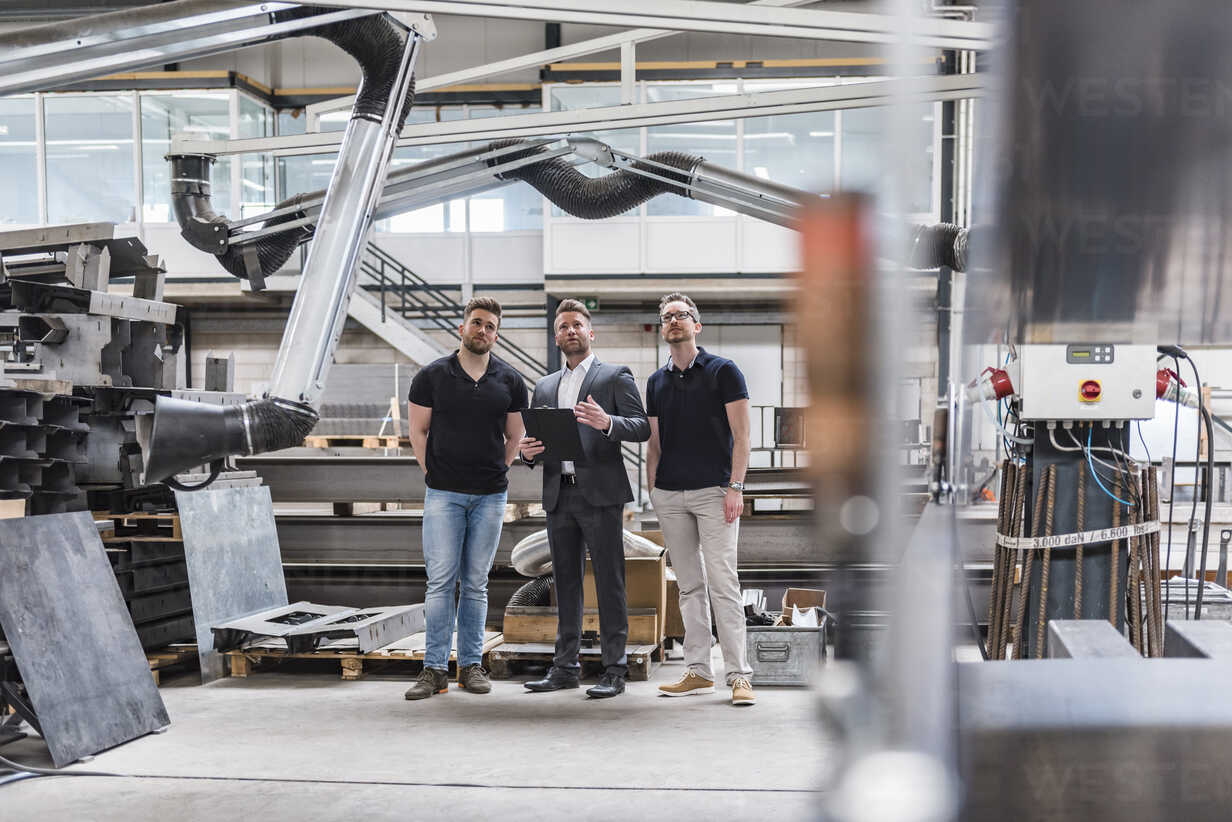person: (527, 299, 652, 694), (404, 301, 525, 696), (646, 296, 755, 705)
